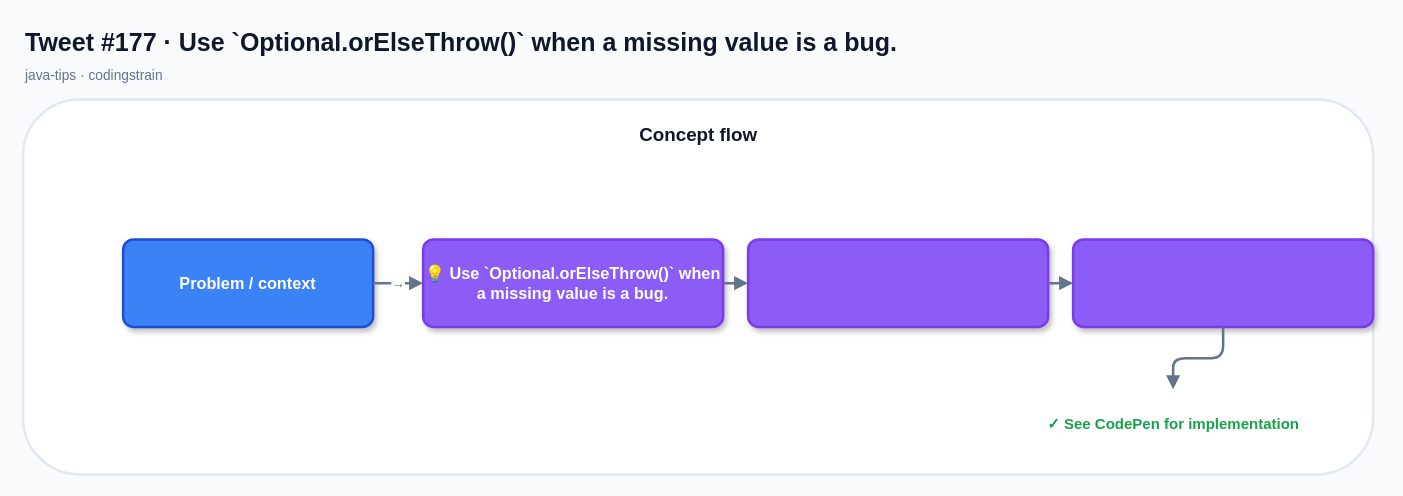
Image size: 1403x496. Some labels were removed from this diagram. The shapes that lost their labels are listed below. From the top down, each one's centre as x and y in pixels, then its label:
(898,284): `orElse(null)` → NPE later, far from the lookup
(1223,284): `orElseThrow()` stops at the source with a clear exception
